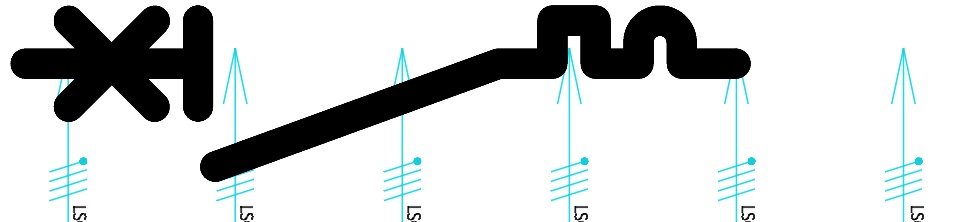interruptor_termomagnetico: (7, 2, 754, 185)
